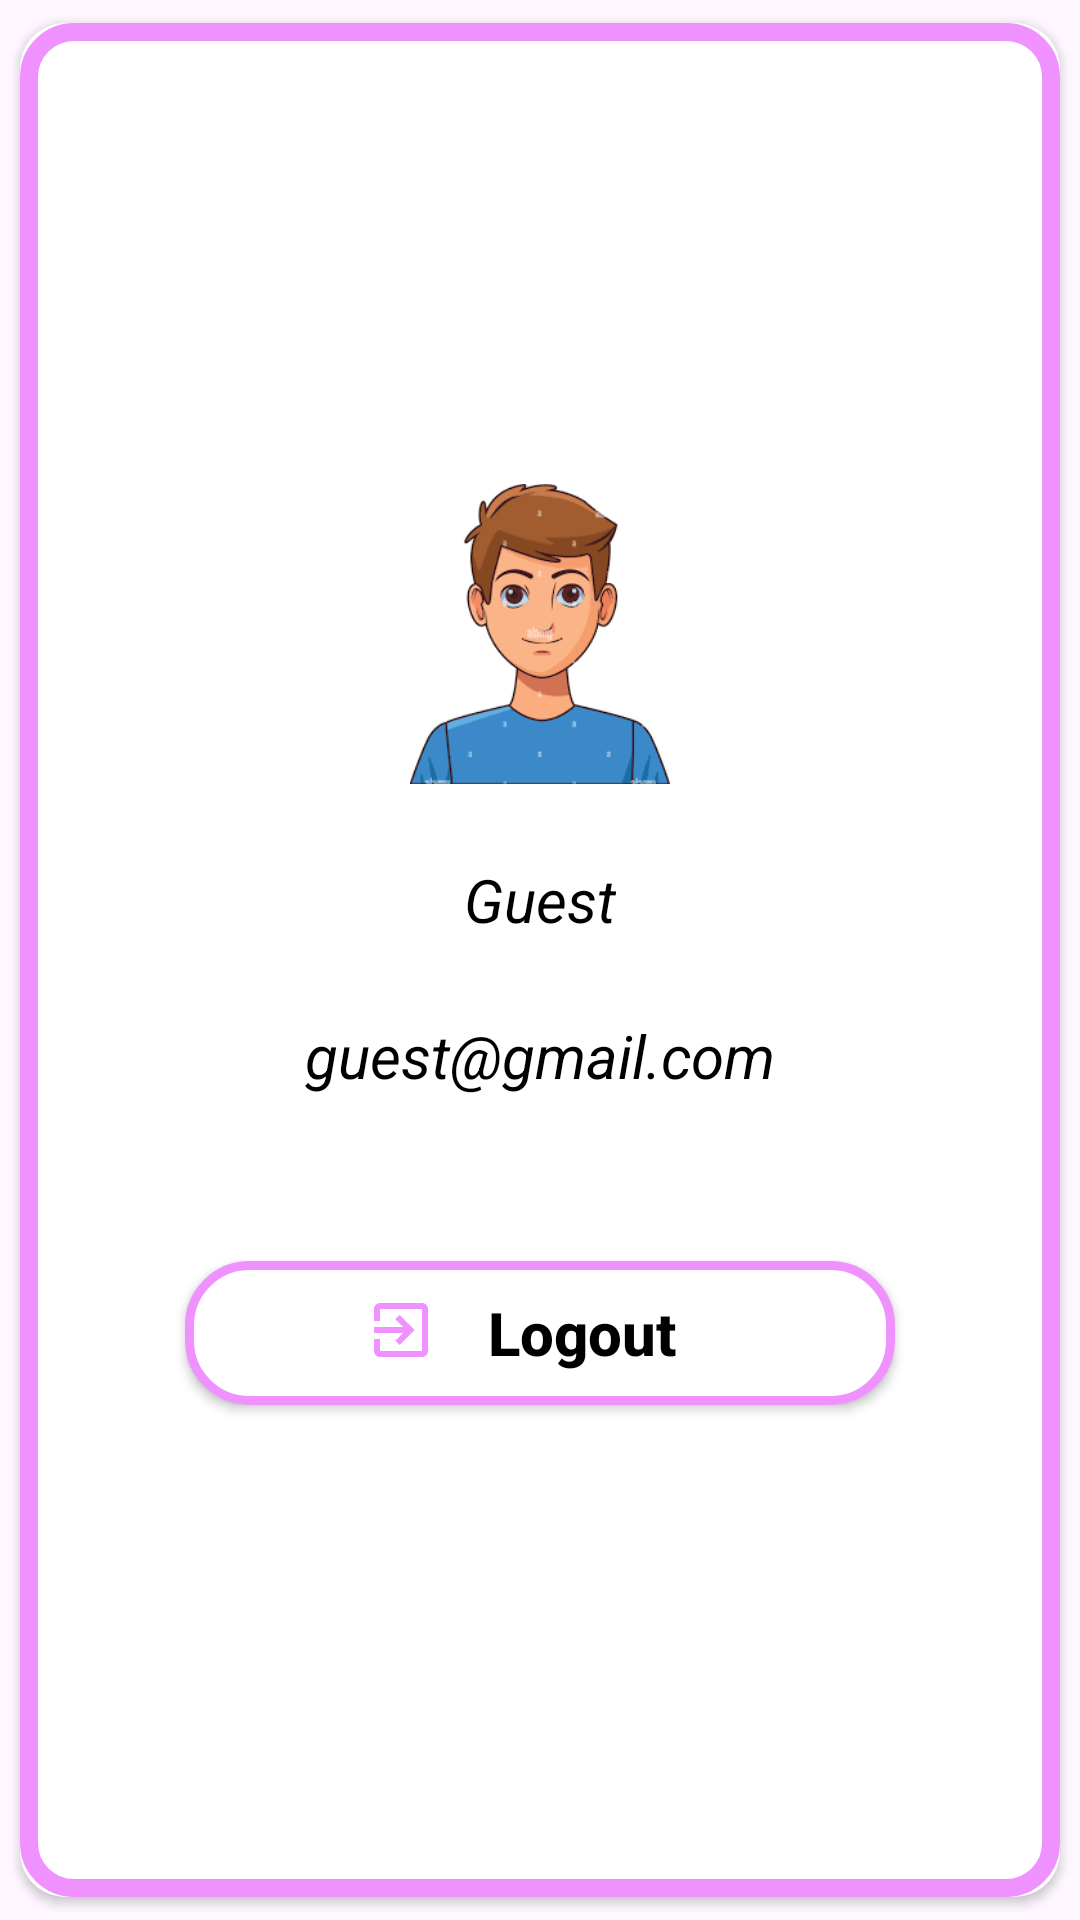

Icon bounding boxes for this 1080w x 1920h phone screenshot, format [left=x1, top=y1, right=x2, bottom=y2]:
profile: [left=410, top=484, right=670, bottom=784]
